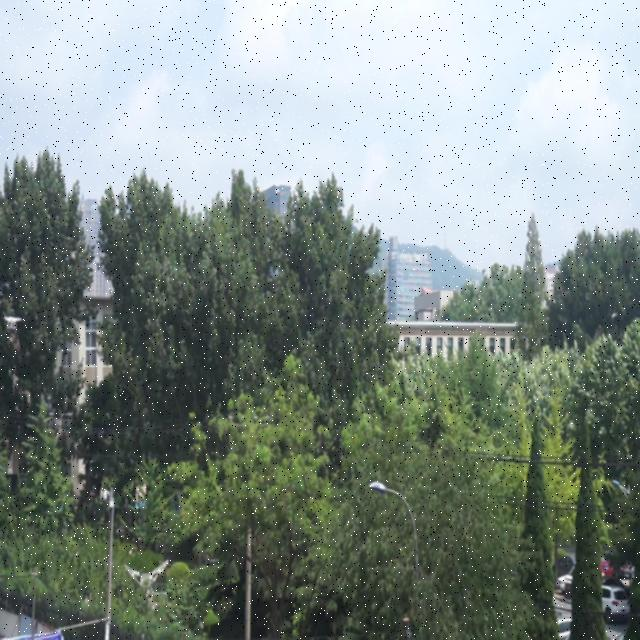UAV: (2, 316, 23, 329)
